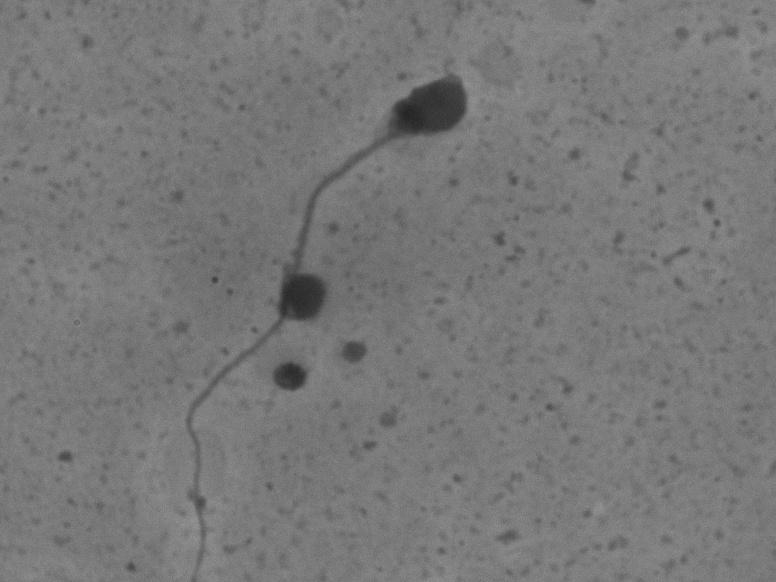Abnormal: (125, 47, 483, 578)
